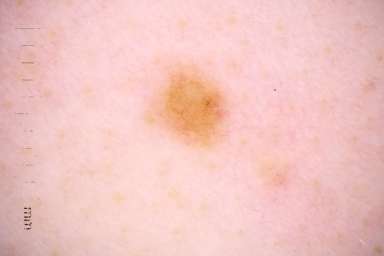nevus: (159, 69, 227, 155)
